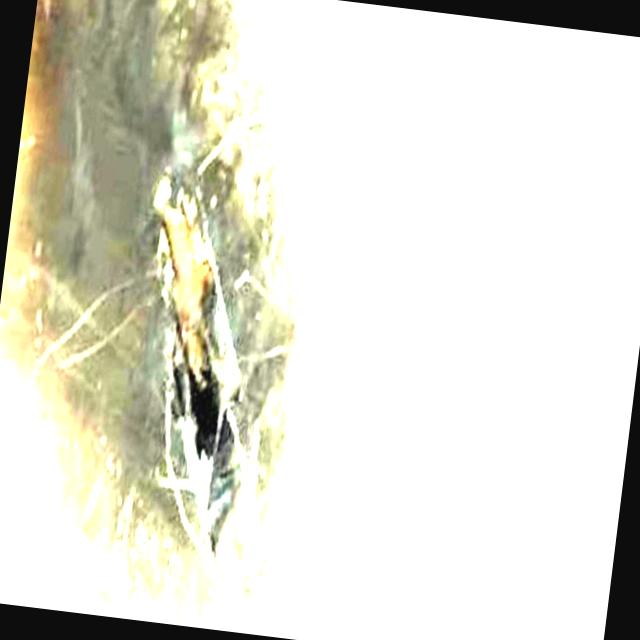crack: (0, 0, 347, 567)
